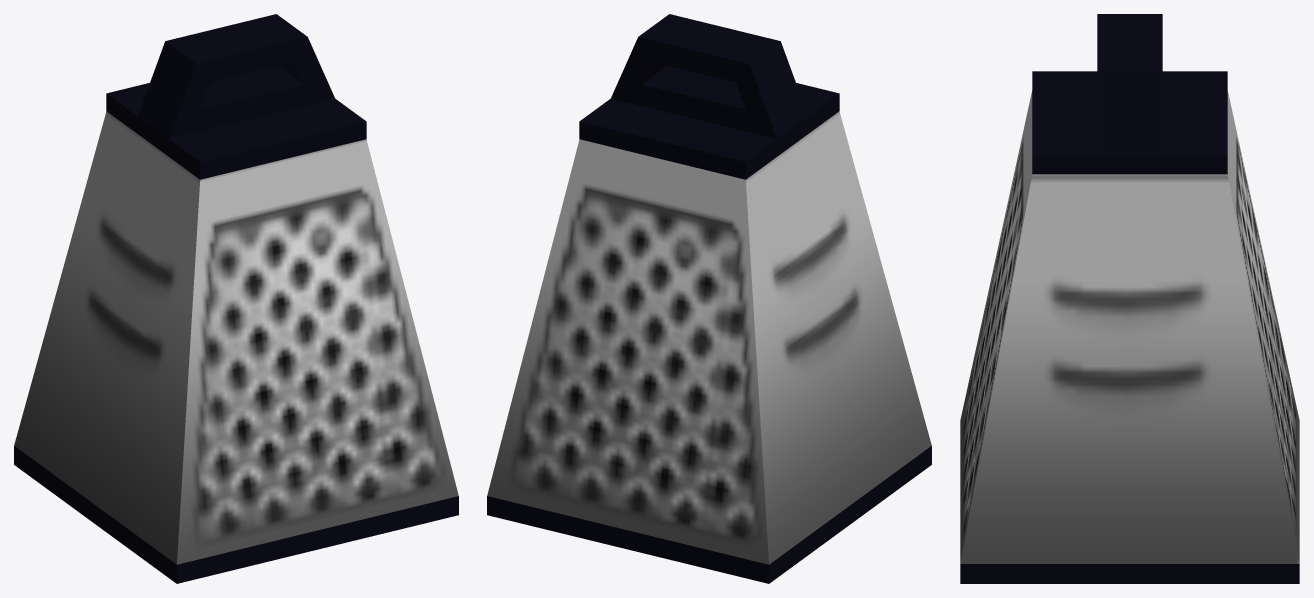
File: Grater.fbx
3 views of the same model, side by side, from view 1: azimuth 30°, elevation 25°; view 2: azimuth 150°, elevation 25°; view 3: azimuth 270°, elevation 25° (orthographic). The views are drawn at different scales.
Parts seen in each view (by area): view 1: Grater; view 2: Grater; view 3: Grater.
Boxes of the visible parts, <box> form: Grater: <box>14,14,458,583</box>; Grater: <box>487,14,931,583</box>; Grater: <box>960,14,1299,583</box>.
Size of the model in its own units: 0.2448 by 0.3742 by 0.2448.
